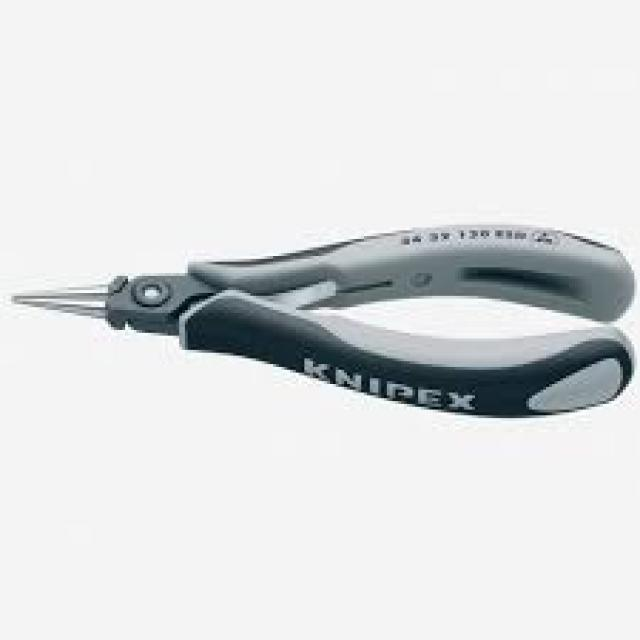pliers: (0, 219, 626, 421)
